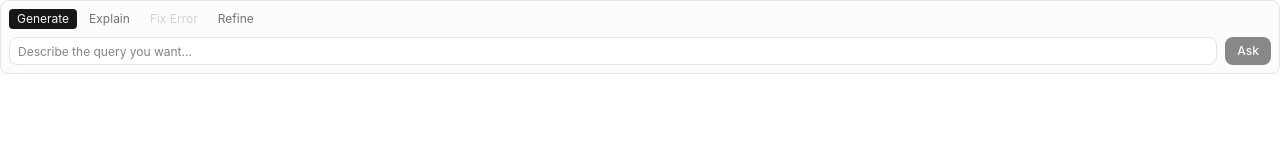
it: AiPromptBar — mode switching clears state › switching mode clears previous result
Type "test" into the field with placeholder "Describe the query you want…" at (613, 51), box [9,37,1217,65]
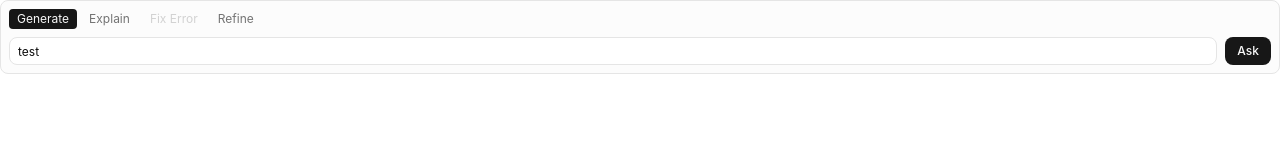
Click the button "Ask" at (1248, 51), box [1225,37,1271,65]
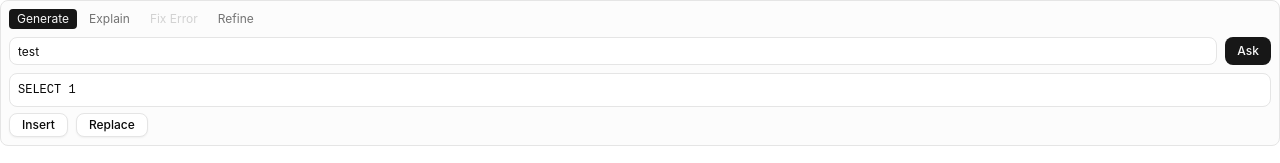
Now the text "SELECT 1" is shown, box [9,73,1271,107]
Switch to refine — result should be cleared
Click the button "refine" at (236, 19), box [210,9,262,29]
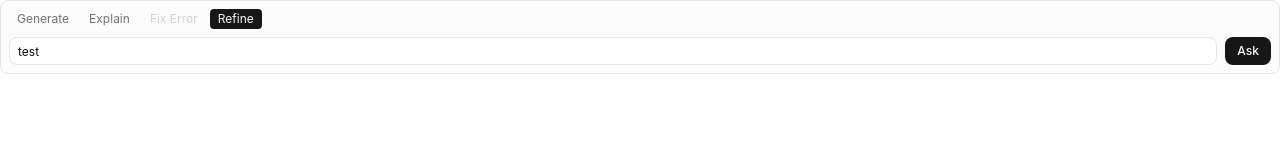
Now the text "SELECT 1" is gone
